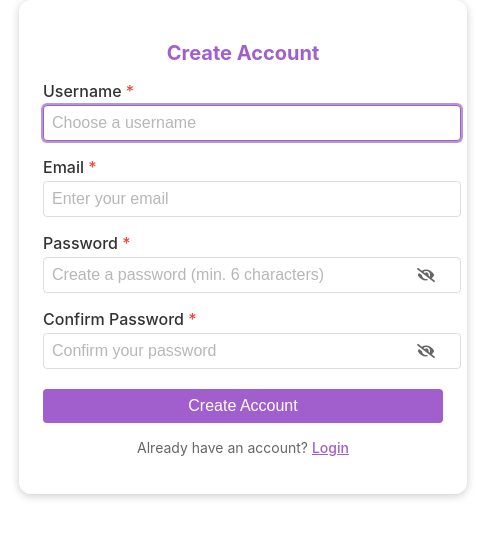
Test: RegisterForm Component › shows validation error for short password
// Fill in the form with a short password
Type "testuser" into the field labelled "Username". click: (252, 123)
box: [43,105,461,141]
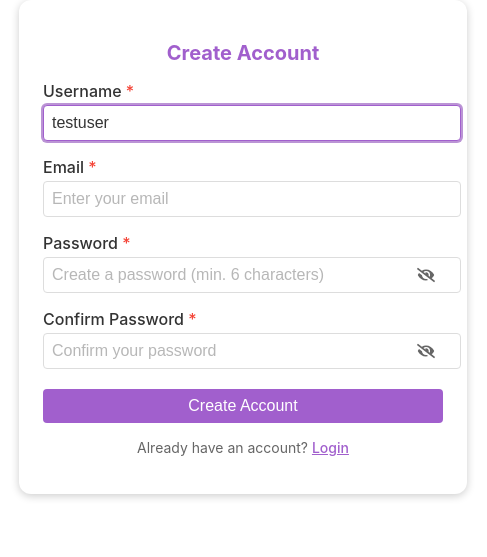
Type "test@example.com" into the field labelled "Email". click: (252, 199)
box: [43,181,461,217]
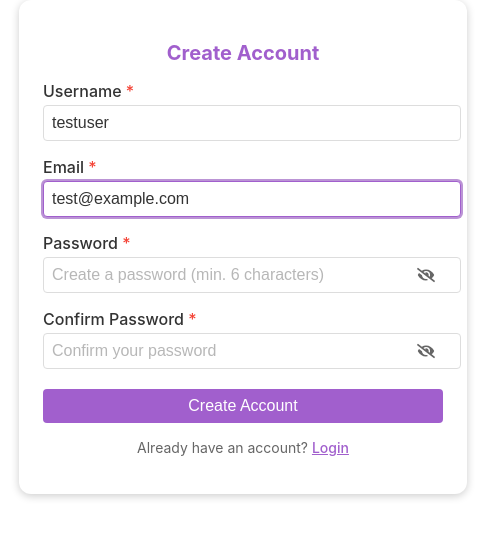
Type "short" into the password field with placeholder "Create a password (min. 6 characters)". click: (252, 275)
box: [43,257,461,293]
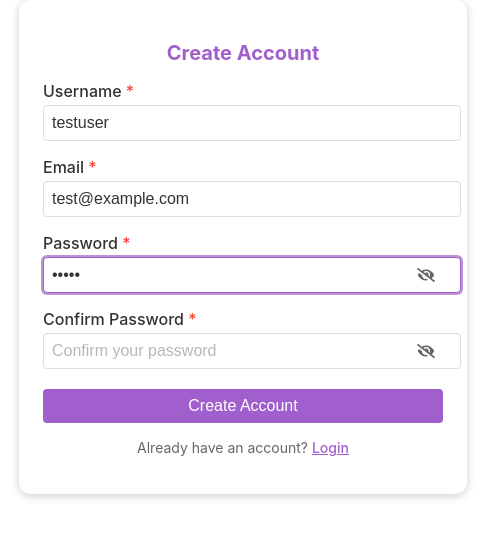
Type "short" into the password field with placeholder "Confirm your password". click: (252, 351)
box: [43,333,461,369]
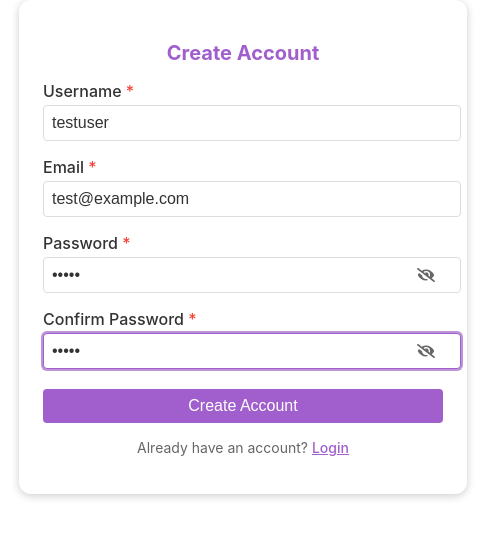
// Submit the form
Click the button "Create Account". click: (243, 406)
box: [43,389,443,423]
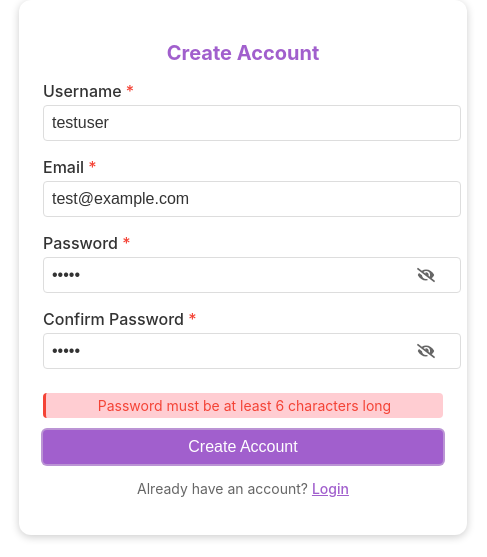
Expected: the text "Password must be at least 6 characters long" is shown, [43,393,443,418]
